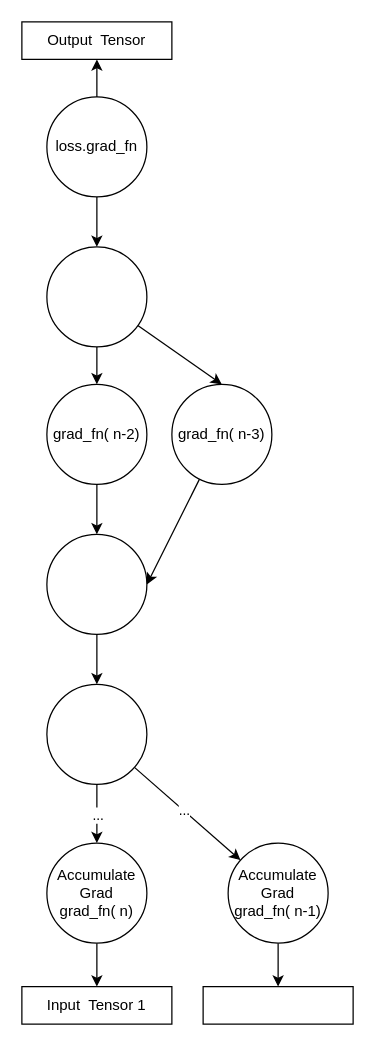
This 375x1046 diagram has some shape labels left out. The centre of each missing label's shape, as x and y in pixels:
"grad_fn( n-1)" belongs at point 96,296.
"grad_fn( n-4)" belongs at point 96,583.
"grad_fn( n-5)" belongs at point 96,733.
"Input Tensor 2" belongs at point 277,1004.
